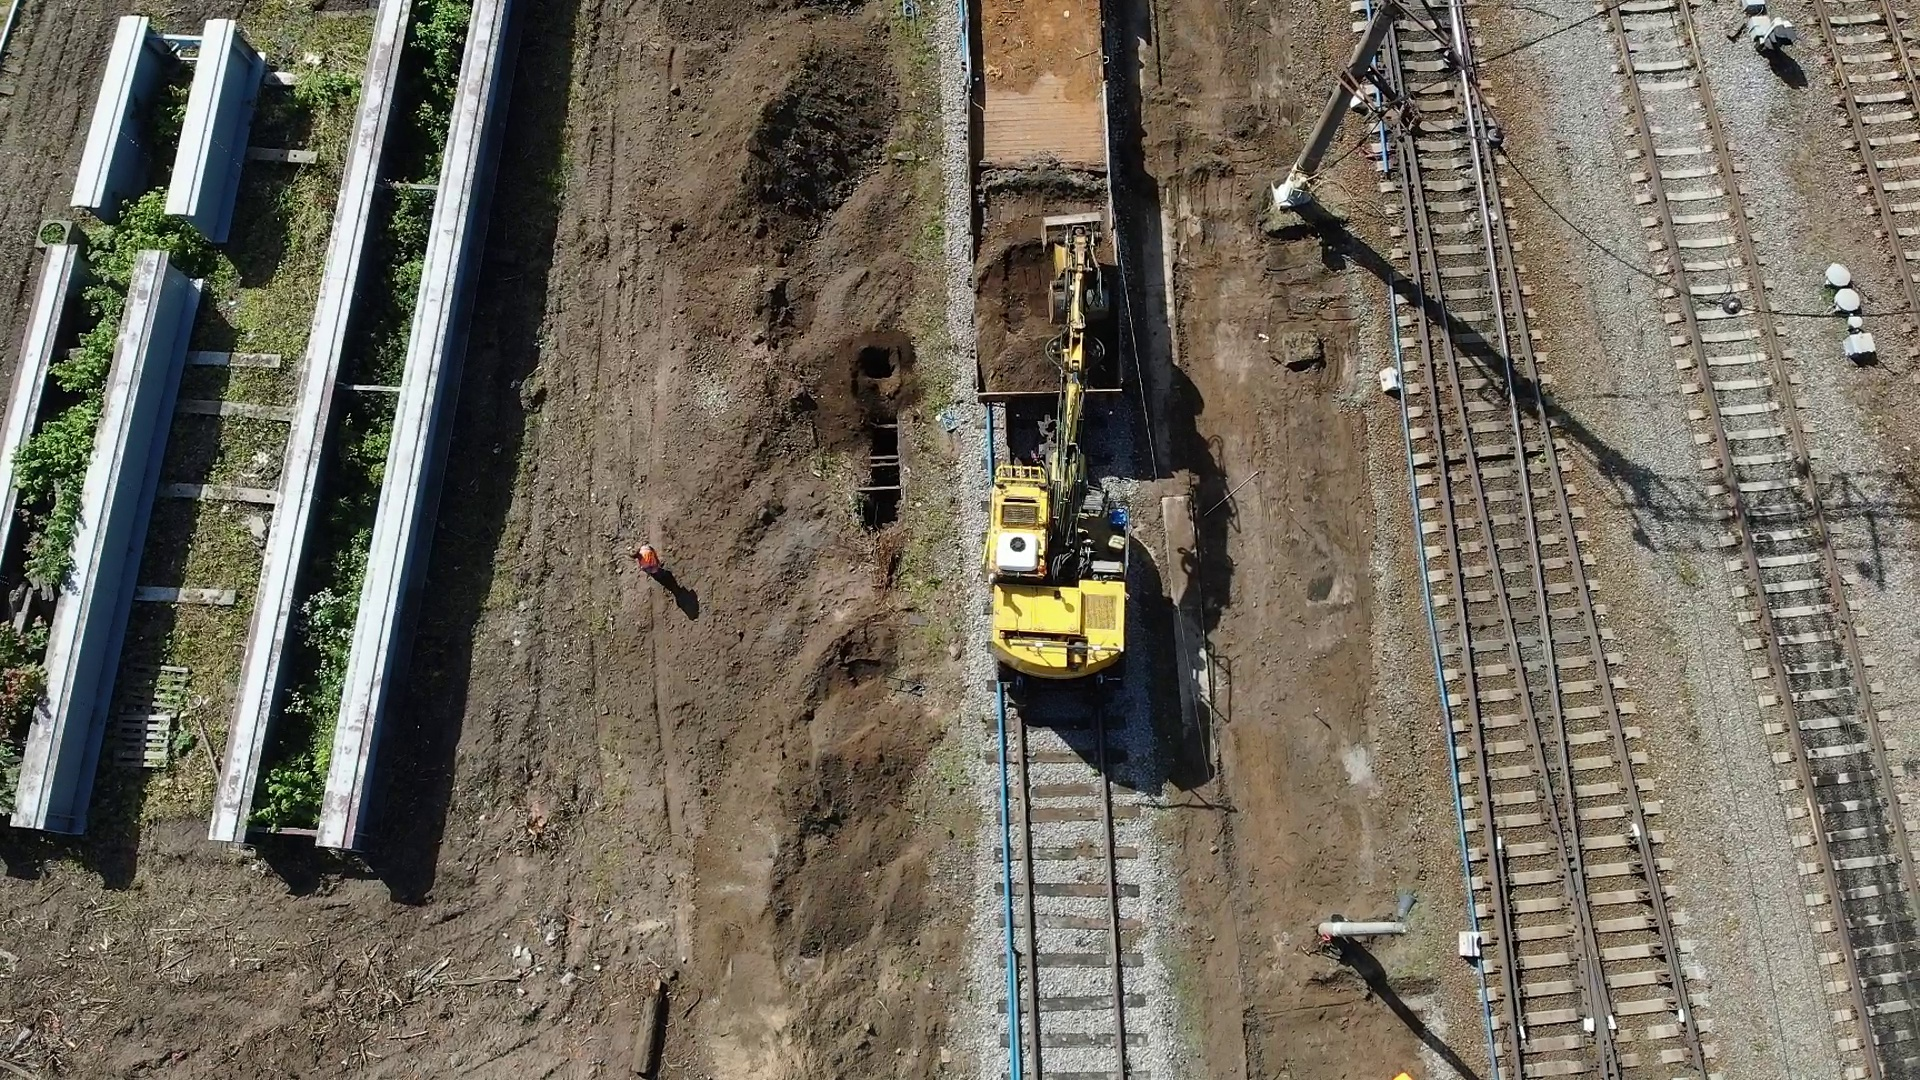kjtv: (984, 295, 1139, 700)
